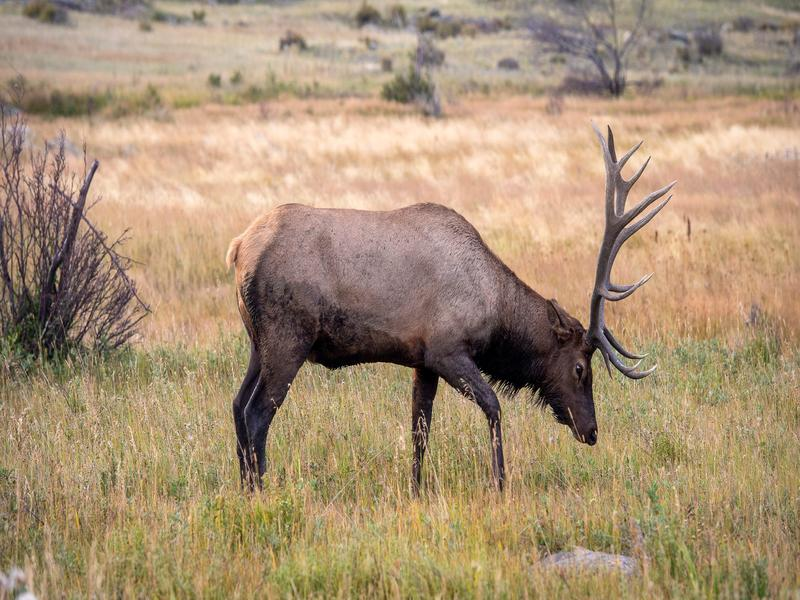elk: (226, 199, 621, 496)
